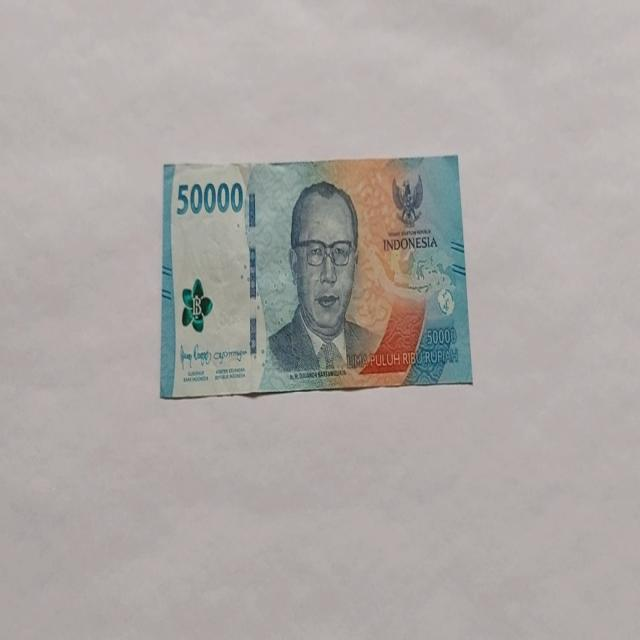lima puluh ribu rupiah: (159, 154, 473, 400), (264, 178, 382, 380)
